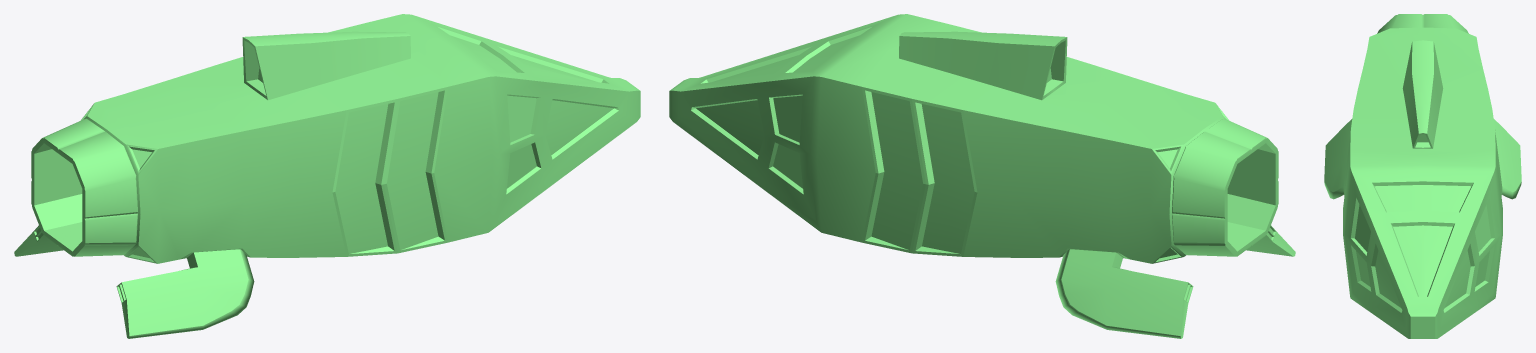
The model's file is LP_Marauder.FBX.
3 renders of one model, left to right at view 1: azimuth 30°, elevation 25°; view 2: azimuth 150°, elevation 25°; view 3: azimuth 270°, elevation 25°, orthographic. The views are drawn at different scales.
Visible parts, largest first — view 1: LP_Body, LP_Fins; view 2: LP_Body, LP_Fins; view 3: LP_Body, LP_Fins.
Part boxes in pixels (x1=…): LP_Body: x1=31, y1=14, x2=640, y2=263; LP_Fins: x1=14, y1=225, x2=254, y2=338; LP_Body: x1=669, y1=14, x2=1278, y2=263; LP_Fins: x1=1055, y1=225, x2=1295, y2=338; LP_Body: x1=1343, y1=14, x2=1502, y2=338; LP_Fins: x1=1324, y1=119, x2=1521, y2=199.
Size of the model in its own units: 77.23 by 28.48 by 27.18.
